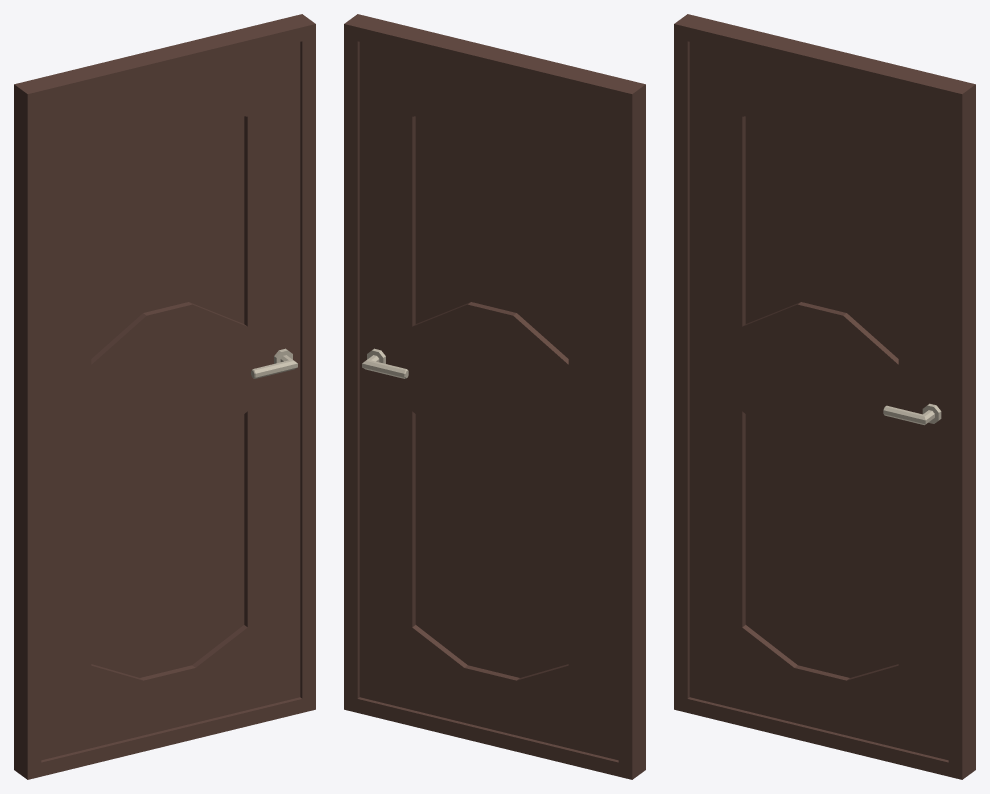
File: Mesh_Door_D07.fbx
The picture shows the model from 3 angles, left to right: view 1: azimuth 30°, elevation 25°; view 2: azimuth 150°, elevation 25°; view 3: azimuth 330°, elevation 25°; orthographic projection.
Parts seen in each view (by area): view 1: Mesh_Door_D07; view 2: Mesh_Door_D07; view 3: Mesh_Door_D07.
Part boxes in pixels (bbox=[...]): Mesh_Door_D07: bbox=[14, 14, 315, 779]; Mesh_Door_D07: bbox=[344, 14, 645, 779]; Mesh_Door_D07: bbox=[674, 14, 975, 779].
Size of the model in its own units: 0.9 by 2.05 by 0.1742.
